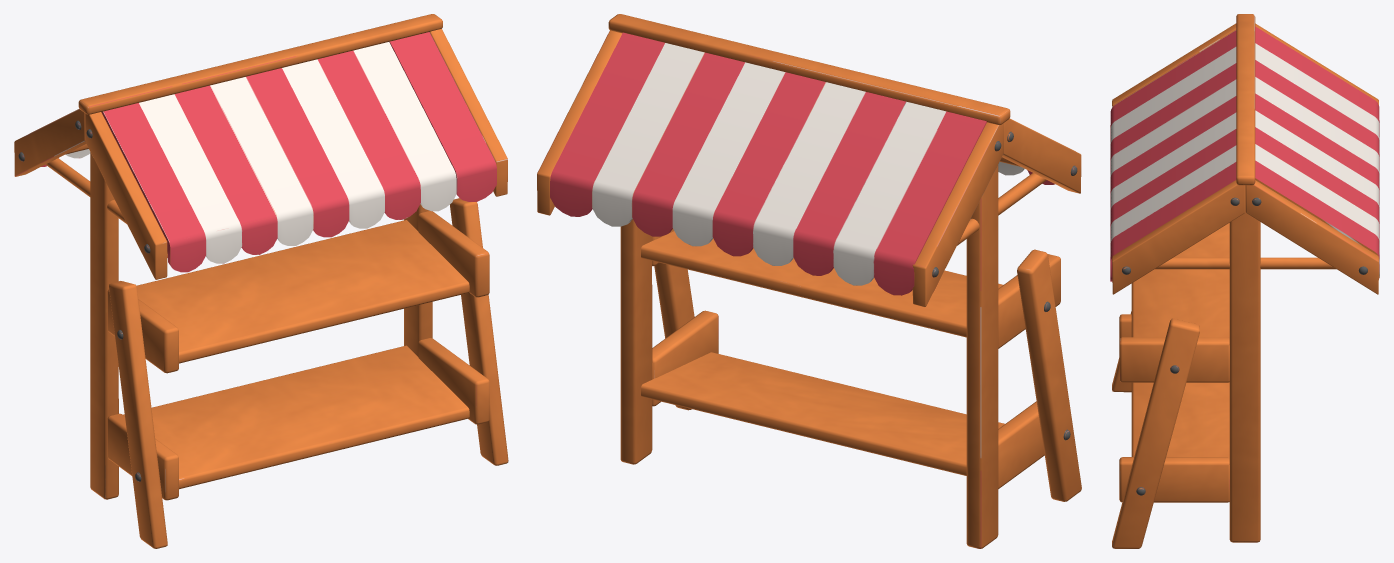
File: New_Stole.fbx
3 views of the same model, side by side, from view 1: azimuth 30°, elevation 25°; view 2: azimuth 150°, elevation 25°; view 3: azimuth 270°, elevation 25° (orthographic). The views are drawn at different scales.
Visible parts, largest first — view 1: Cube.001, Cube.002, Cube.003, Cube.006; view 2: Cube.001, Cube.006, Cube.003, Cube.002; view 3: Cube.001, Cube.006, Cube.002, Cube.003.
Boxes of the visible parts, box(x1,y1,x2,y2) form: Cube.001: box(14, 14, 507, 279); Cube.002: box(107, 210, 489, 373); Cube.003: box(107, 338, 489, 500); Cube.006: box(90, 152, 508, 548); Cube.001: box(537, 14, 1081, 306); Cube.006: box(620, 165, 1081, 548); Cube.003: box(641, 310, 1044, 488); Cube.002: box(641, 229, 1060, 348); Cube.001: box(1110, 14, 1379, 294); Cube.006: box(1112, 212, 1260, 548); Cube.002: box(1119, 223, 1229, 382); Cube.003: box(1119, 314, 1229, 502).
Size of the model in its own units: 3551 by 3719 by 2428.
1 material, 1 textured.
